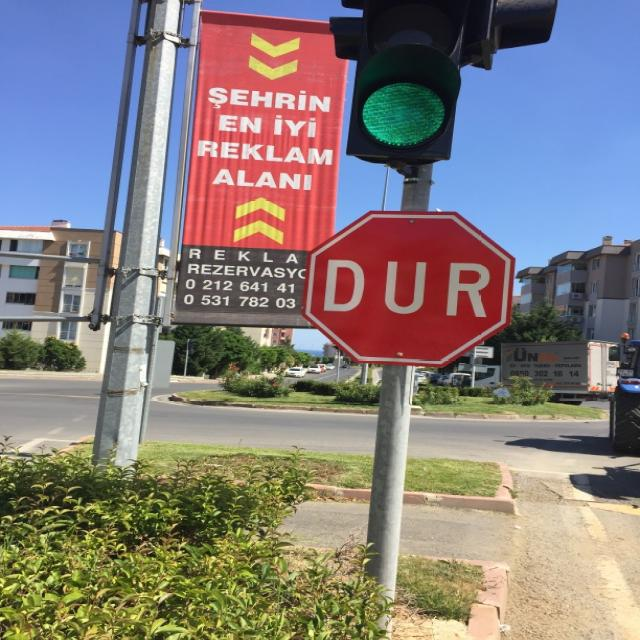dur: (302, 209, 516, 367)
yesil: (347, 3, 462, 162)
